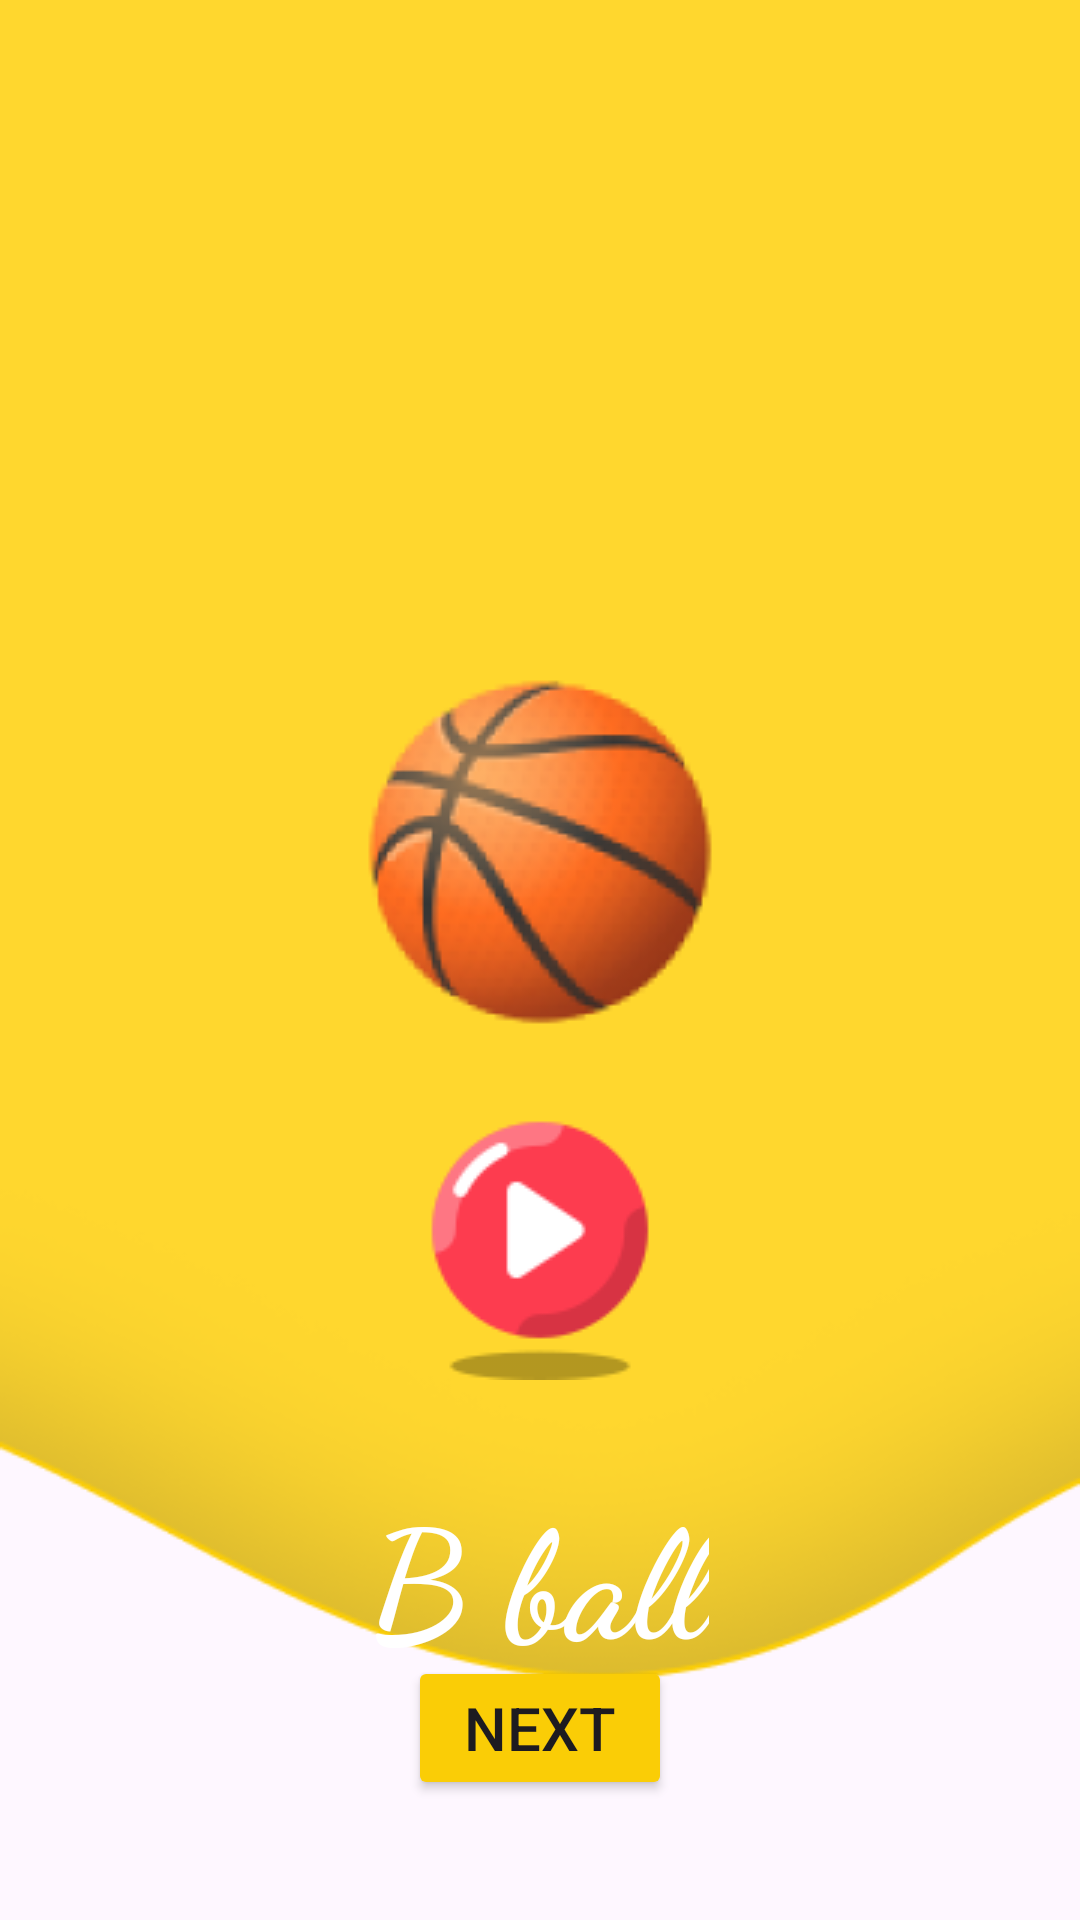

Point at icon controls on the screen. Image size 1080*1920, points as point (x, y).
ball: point (540, 852)
